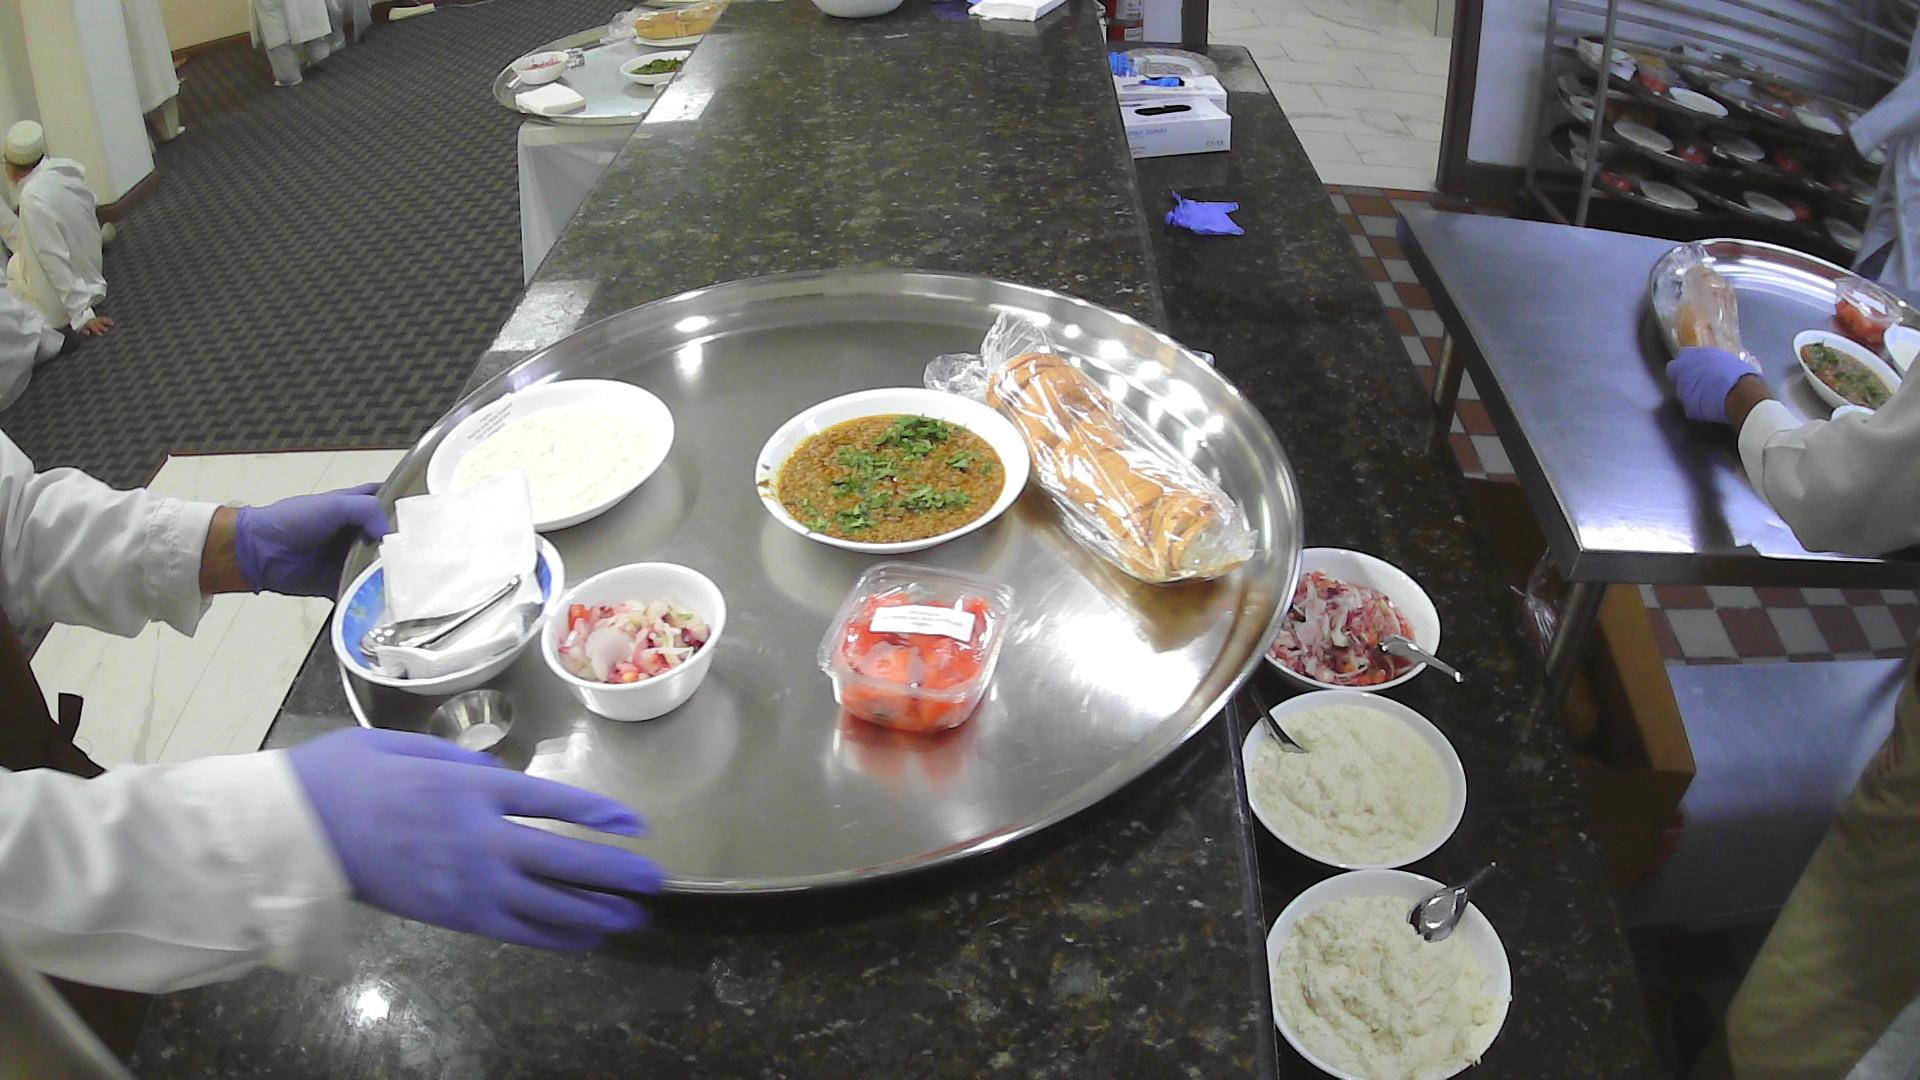thaal: (328, 262, 1308, 922), (1645, 235, 1920, 427), (492, 11, 711, 128)
